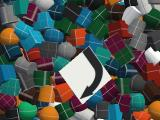Right: (59, 46, 112, 104)
